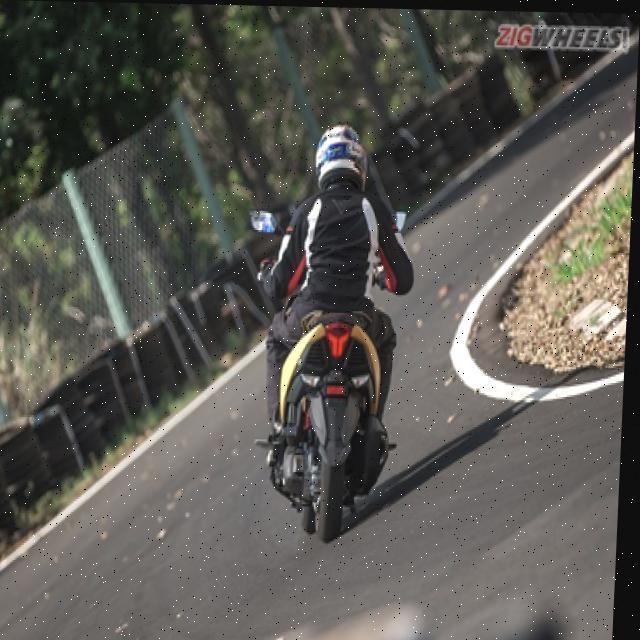Helmet: (302, 108, 382, 194)
